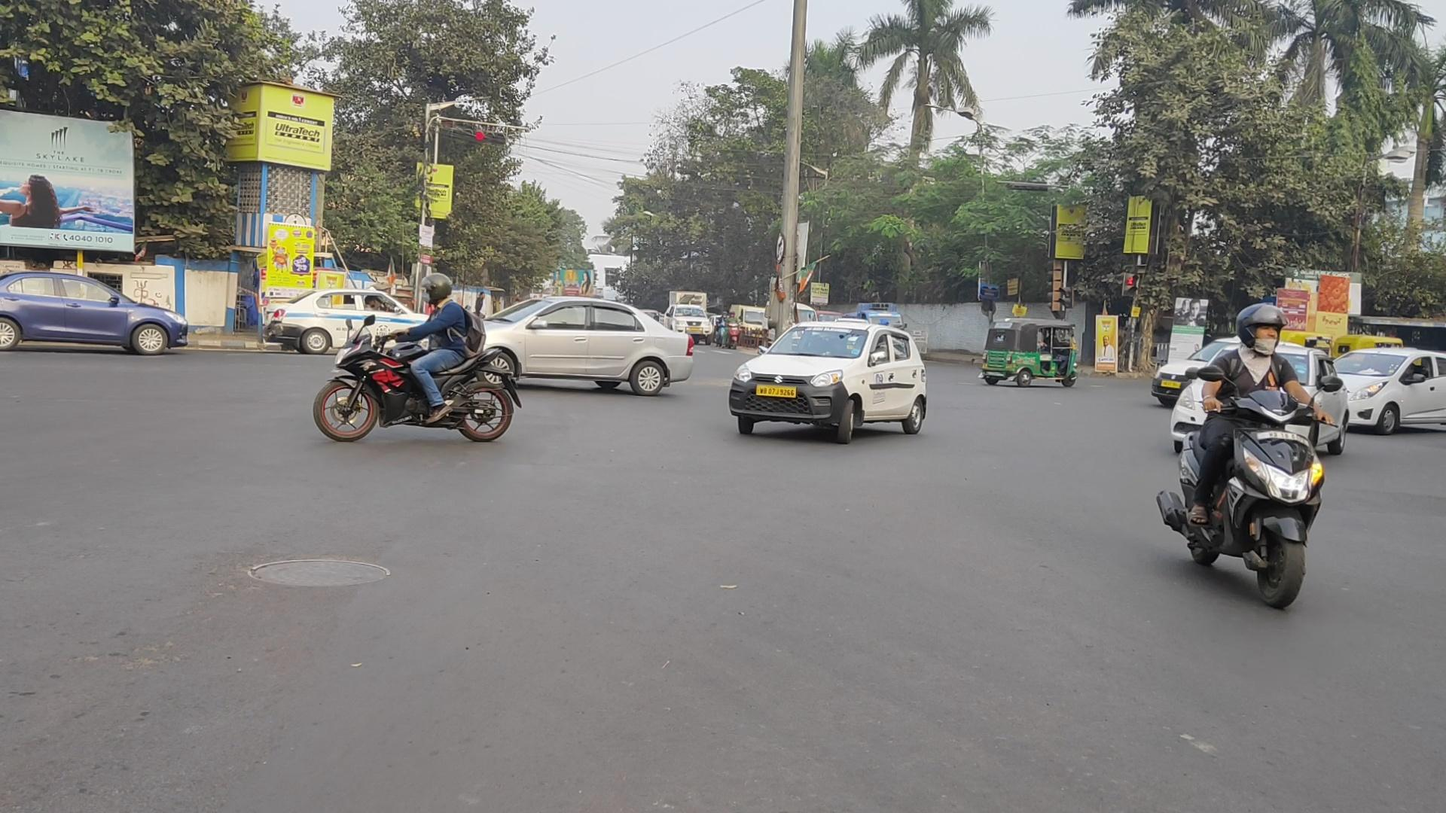Auto: (979, 318, 1080, 388)
bike: (1156, 303, 1344, 610), (313, 273, 521, 443)
car: (439, 295, 694, 397), (728, 321, 928, 443), (1167, 346, 1350, 456), (1, 272, 188, 356), (262, 288, 457, 356), (1152, 336, 1314, 410), (1329, 347, 1446, 437)
van: (657, 292, 714, 346)
